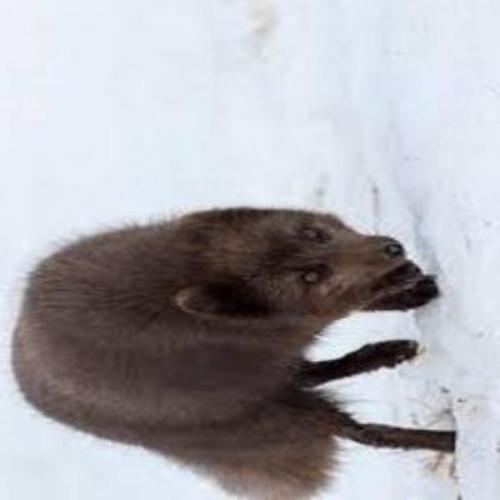arctic_fox-endangered: (15, 208, 453, 488)
